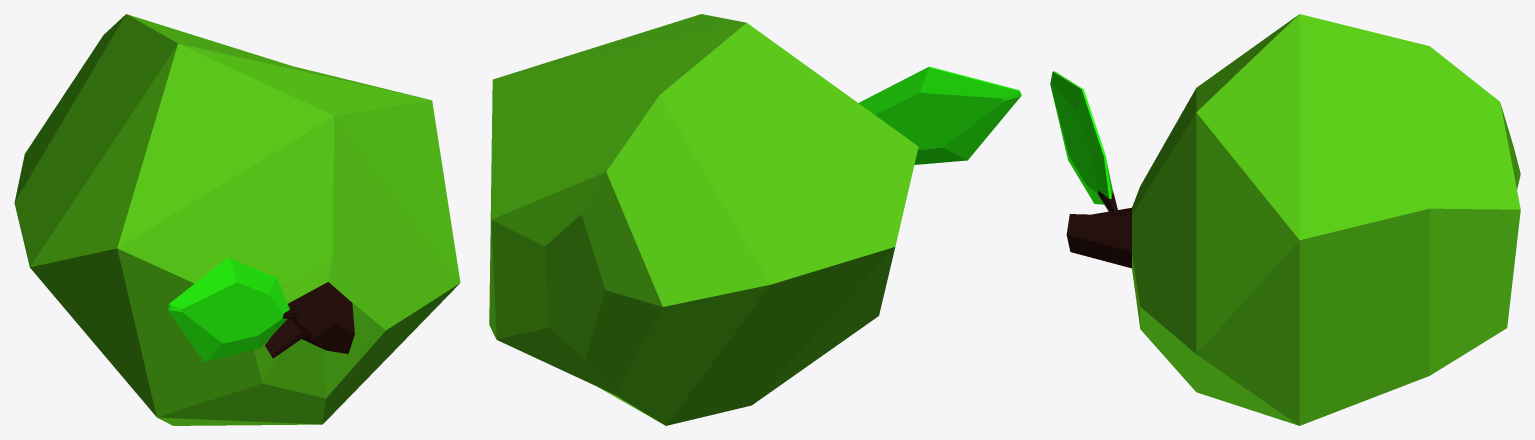
File: Apple Green.fbx
The picture shows the model from 3 angles, left to right: view 1: azimuth 30°, elevation 25°; view 2: azimuth 150°, elevation 25°; view 3: azimuth 270°, elevation 25°; orthographic projection. The views are drawn at different scales.
Visible parts, largest first — view 1: Apple_Green; view 2: Apple_Green; view 3: Apple_Green.
Part boxes in pixels (x1,y1,x2,y2): Apple_Green: (14,14,460,425); Apple_Green: (489,14,1021,425); Apple_Green: (1050,14,1520,425).
Size of the model in its own units: 2.53 by 2.29 by 2.75.
